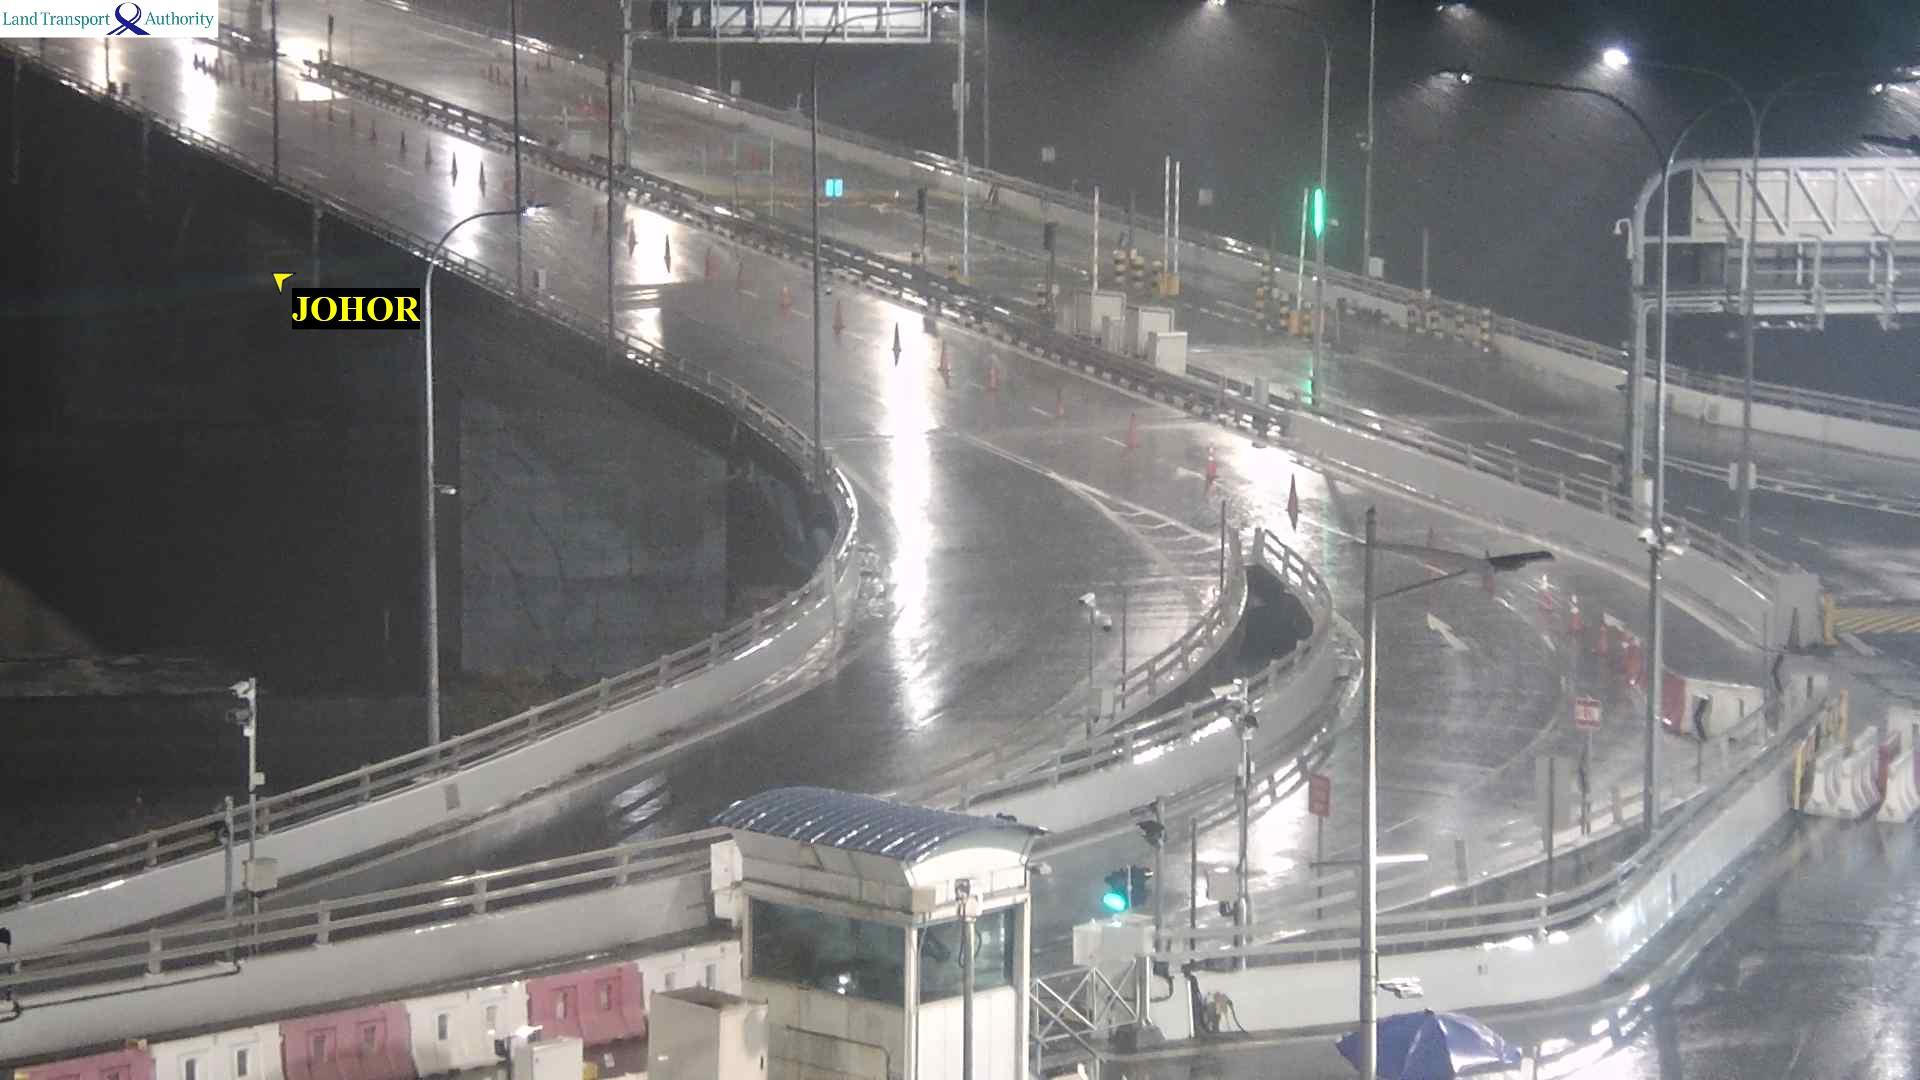vehicle-secondlink-singapore: (1133, 799, 1170, 844)
